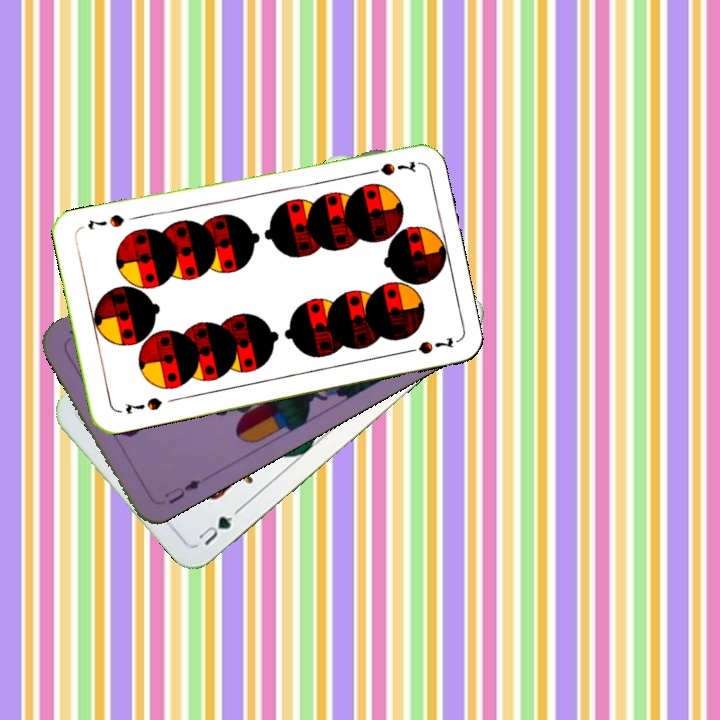EU: (160, 475, 204, 507)
GU: (194, 510, 236, 549)
S7: (361, 157, 419, 178), (121, 393, 165, 416)
